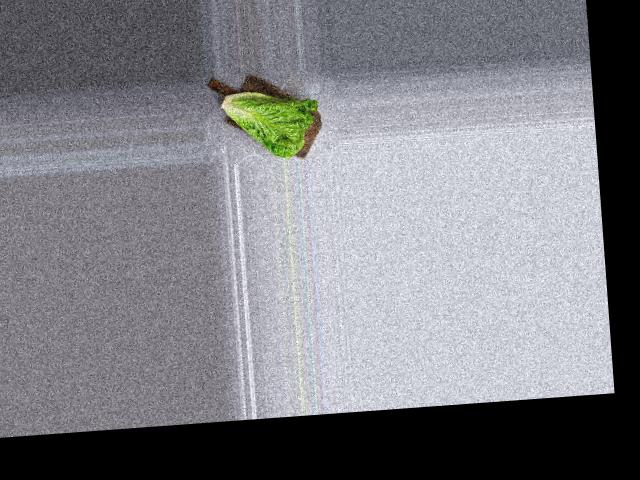lettuce: (215, 76, 321, 162)
